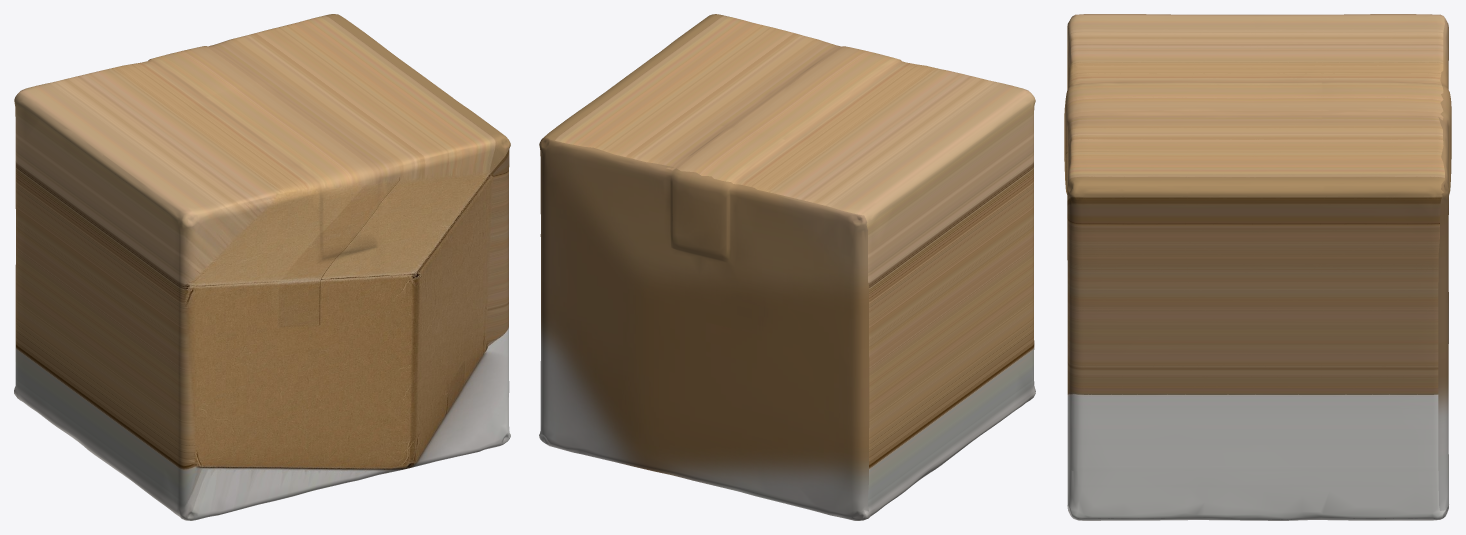
File: cardboard_box.glb
3 renders of one model, left to right at view 1: azimuth 30°, elevation 25°; view 2: azimuth 150°, elevation 25°; view 3: azimuth 270°, elevation 25°, orthographic. The views are drawn at different scales.
Visible parts, largest first — view 1: cardboard_box; view 2: cardboard_box; view 3: cardboard_box.
Part boxes in pixels (bbox=[...]): cardboard_box: bbox=[14, 14, 510, 520]; cardboard_box: bbox=[539, 14, 1035, 520]; cardboard_box: bbox=[1064, 14, 1451, 520].
Size of the model in its own units: 9 by 8.15 by 8.38.
Materials: 1 (1 with a texture image).
